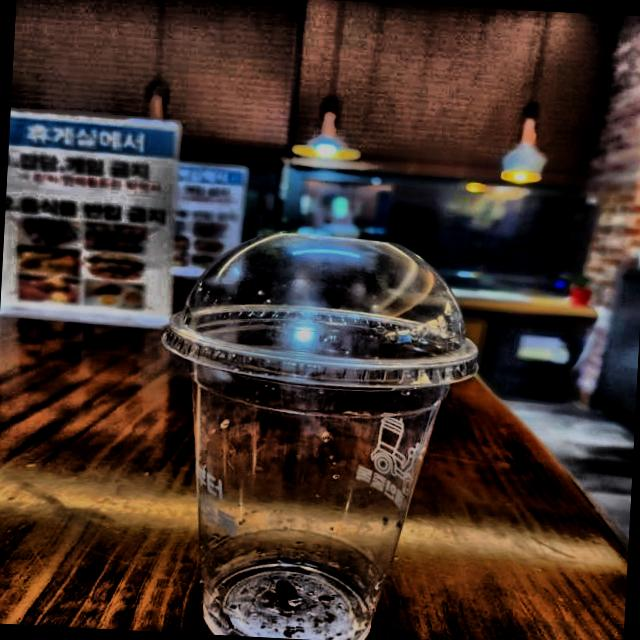plastic cup: (126, 194, 515, 640)
